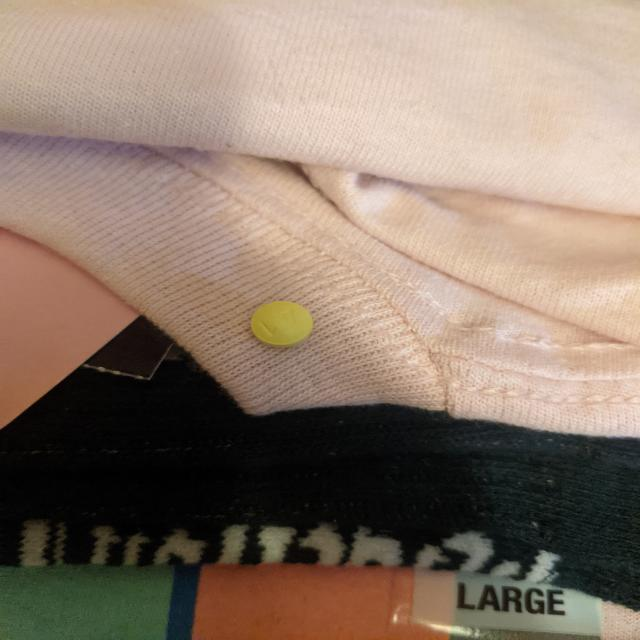non-organic waste: (250, 300, 314, 349)
